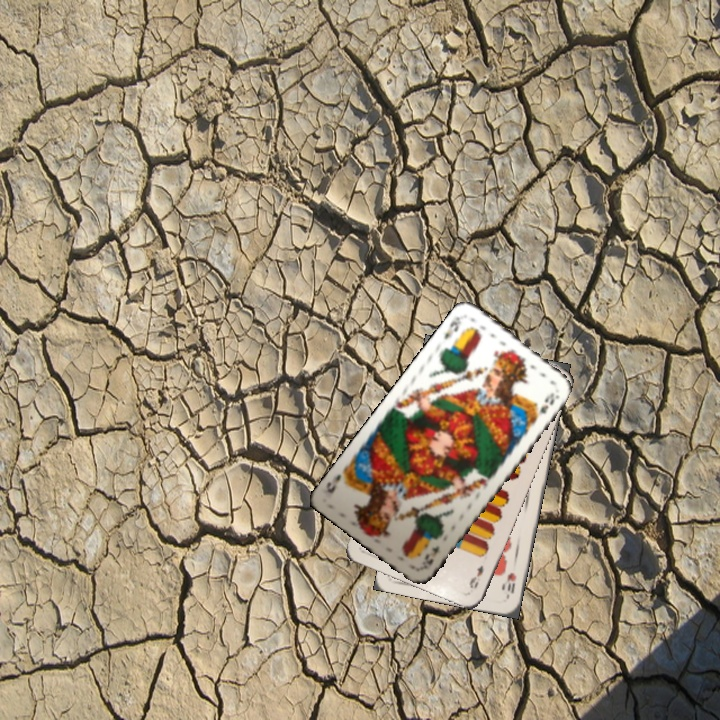E9: (465, 561, 486, 591)
EK: (440, 312, 465, 342), (419, 542, 442, 568)
H10: (503, 568, 519, 596)
